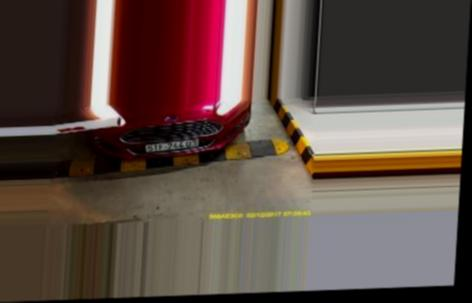License_Plate: (142, 135, 203, 153)
